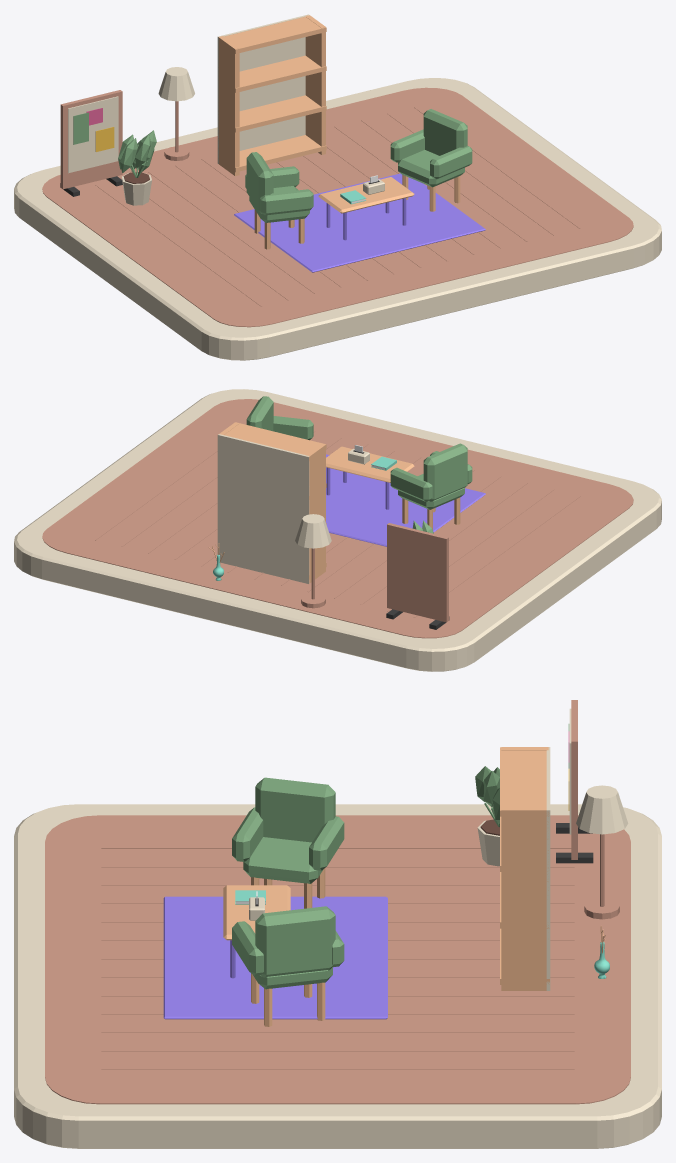
3 views of the same model, one above another, from view 1: azimuth 30°, elevation 25°; view 2: azimuth 150°, elevation 25°; view 3: azimuth 270°, elevation 25° (orthographic). The views are drawn at different scales.
Visible parts, largest first — view 1: COM-02 Floor Surface, COM-01 Rounded Base Direct, Rug, Back.002, Side, Canvas, Panel, Pot, Side.001, Shelf.003, Shelf.001, Shelf.002 (+11 smaller); view 2: COM-02 Floor Surface, COM-01 Rounded Base Direct, Back.002, Rug, Panel, Back, Shelf.003, Side, Rounded table top, Lamp shade, Arm.001, Arm.003 (+2 smaller); view 3: COM-02 Floor Surface, COM-01 Rounded Base Direct, Rug, Side.001, Back.001, Back, Shelf.003, Cushion, Lamp shade, Pot, Rounded table top, Arm.001 (+8 smaller).
Boxes of the visible parts, x1,y1,x2,y2 form: COM-02 Floor Surface: [42, 87, 633, 327]; COM-01 Rounded Base Direct: [14, 78, 661, 360]; Rug: [234, 173, 485, 272]; Back.002: [217, 14, 309, 163]; Side: [218, 36, 239, 176]; Canvas: [68, 96, 118, 173]; Panel: [60, 90, 122, 189]; Pot: [118, 130, 156, 205]; Side.001: [305, 15, 325, 154]; Shelf.003: [219, 16, 326, 53]; Shelf.001: [219, 95, 326, 132]; Shelf.002: [219, 55, 326, 92]; COM-02 Floor Surface: [42, 399, 633, 638]; COM-01 Rounded Base Direct: [14, 389, 661, 671]; Back.002: [217, 434, 309, 583]; Rug: [326, 454, 485, 546]; Panel: [387, 523, 448, 622]; Back: [423, 443, 467, 501]; Shelf.003: [224, 422, 326, 461]; Side: [306, 443, 325, 583]; Rounded table top: [326, 446, 414, 482]; Lamp shade: [295, 514, 331, 548]; Arm.001: [390, 467, 432, 501]; Arm.003: [273, 416, 313, 440]; COM-02 Floor Surface: [45, 815, 630, 1104]; COM-01 Rounded Base Direct: [14, 804, 661, 1148]; Rug: [163, 896, 387, 1019]; Side.001: [501, 807, 548, 990]; Back.001: [255, 906, 335, 977]; Back: [255, 777, 335, 842]; Shelf.003: [500, 747, 549, 816]; Cushion: [243, 837, 322, 883]; Lamp shade: [576, 785, 628, 834]; Pot: [475, 766, 499, 866]; Rounded table top: [223, 885, 290, 940]; Arm.001: [309, 816, 344, 870].
Size of the model in its own units: 6 by 1.9 by 5.2.
Materials: 1 (1 with a texture image).
